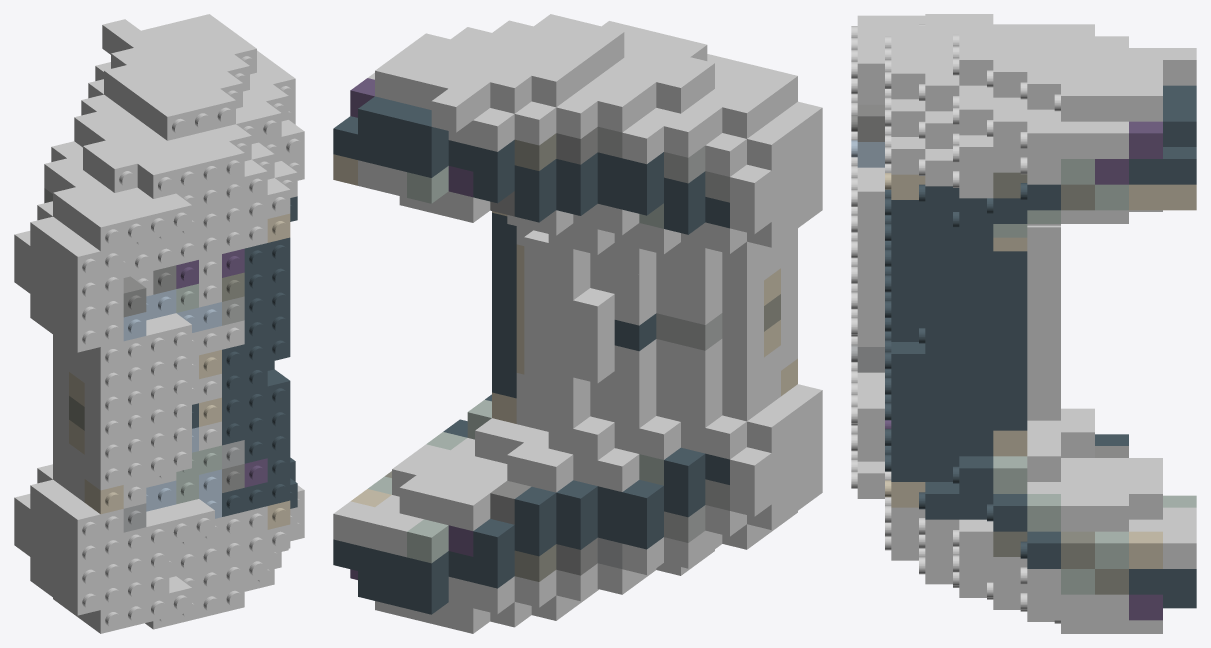
File: full.glb
3 renders of one model, left to right at view 1: azimuth 30°, elevation 25°; view 2: azimuth 150°, elevation 25°; view 3: azimuth 270°, elevation 25°, orthographic. The views are drawn at different scales.
Parts seen in each view (by area): view 1: world; view 2: world; view 3: world.
Boxes of the visible parts, box(x1,y1,x2,y2) form: world: box(14, 14, 304, 633); world: box(333, 14, 822, 633); world: box(851, 14, 1196, 633).
Bounding box in the file's own units: 104 × 168 × 97.8.
